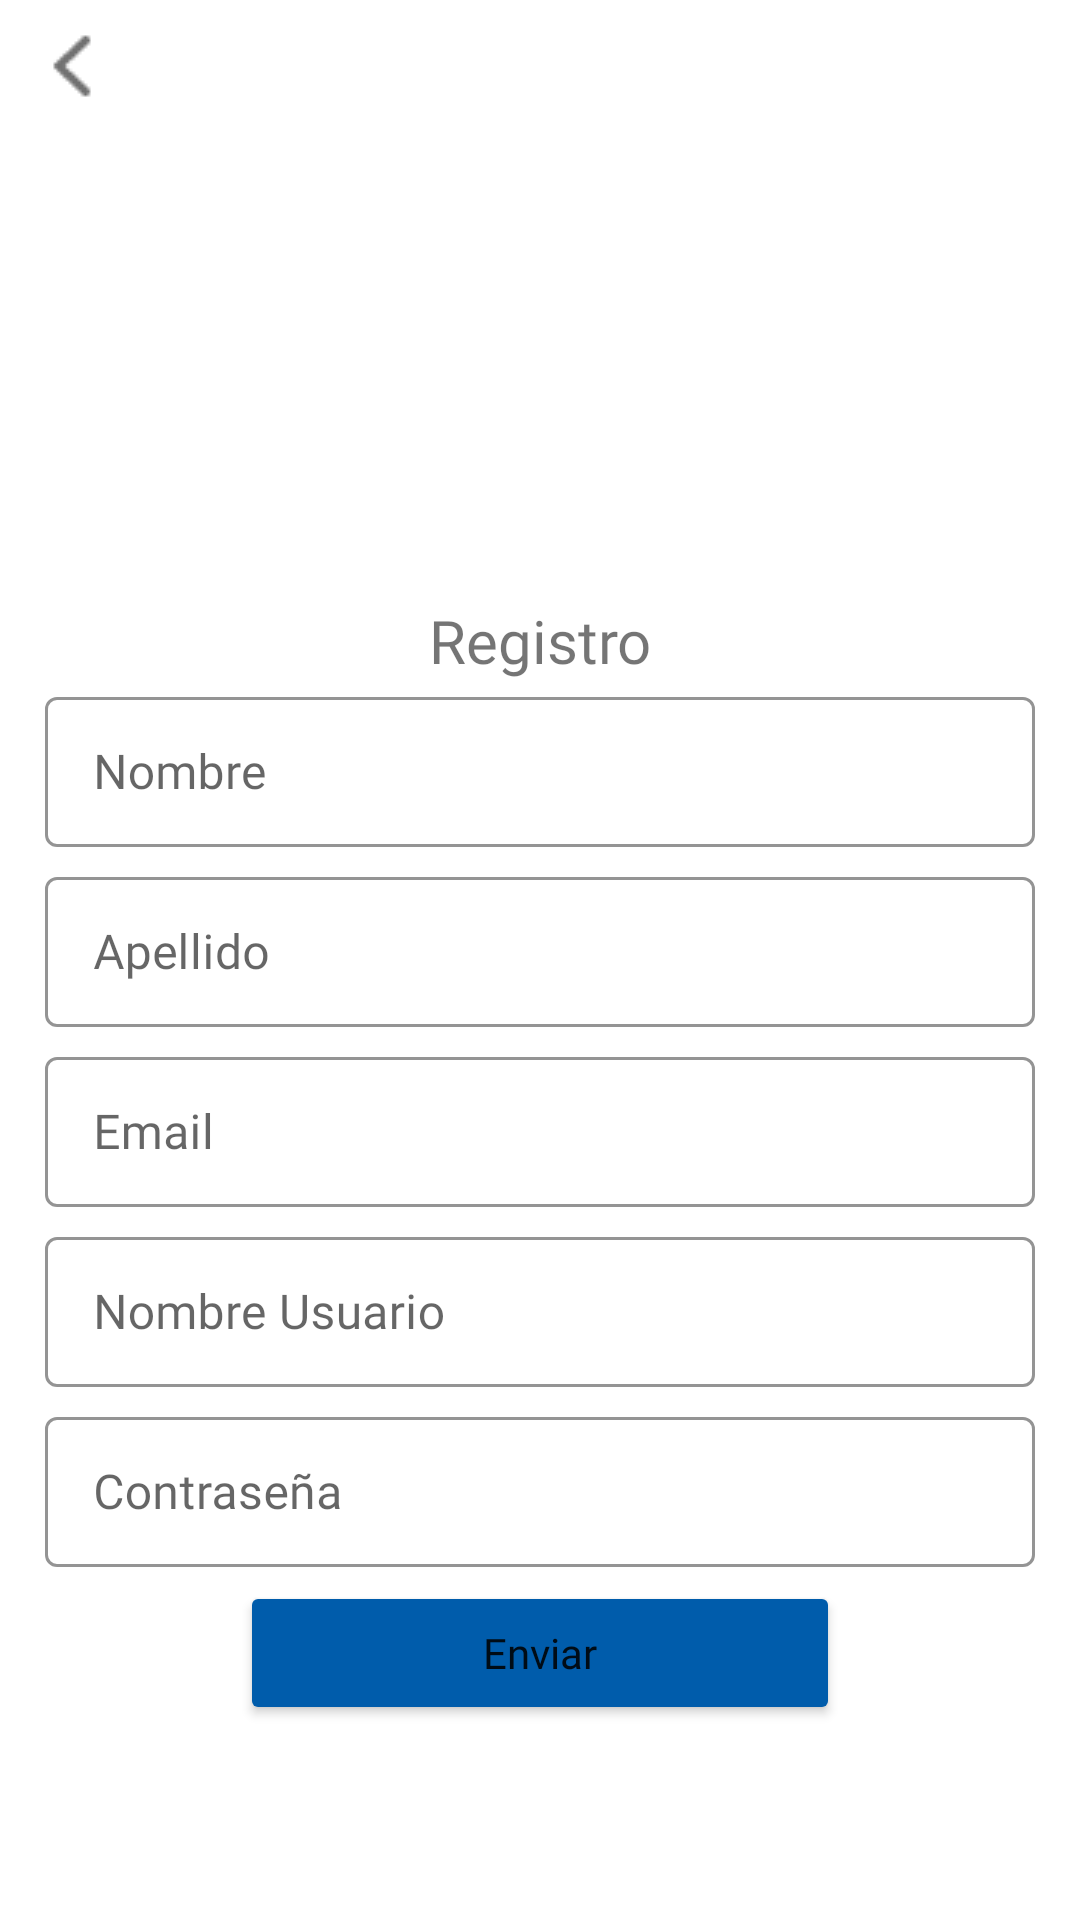

Screen size 1080px x 1920px. Icon name, then its center in pixels as (x=x, y=y):
back: (x=72, y=66)
